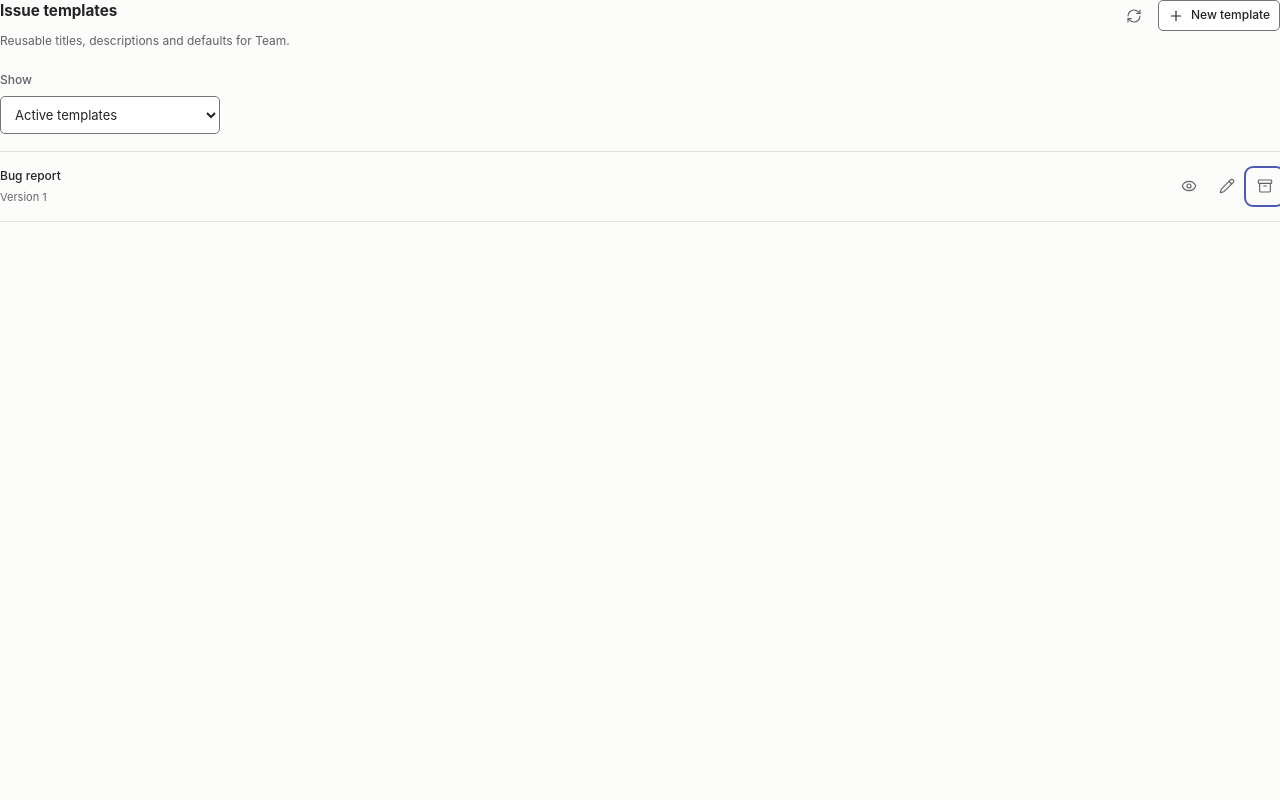
Test: moves focus to a stable heading when archive removes the selected row
Click the button named "Archive Bug report": coordinates (1264, 186) [1249, 171, 1279, 202]
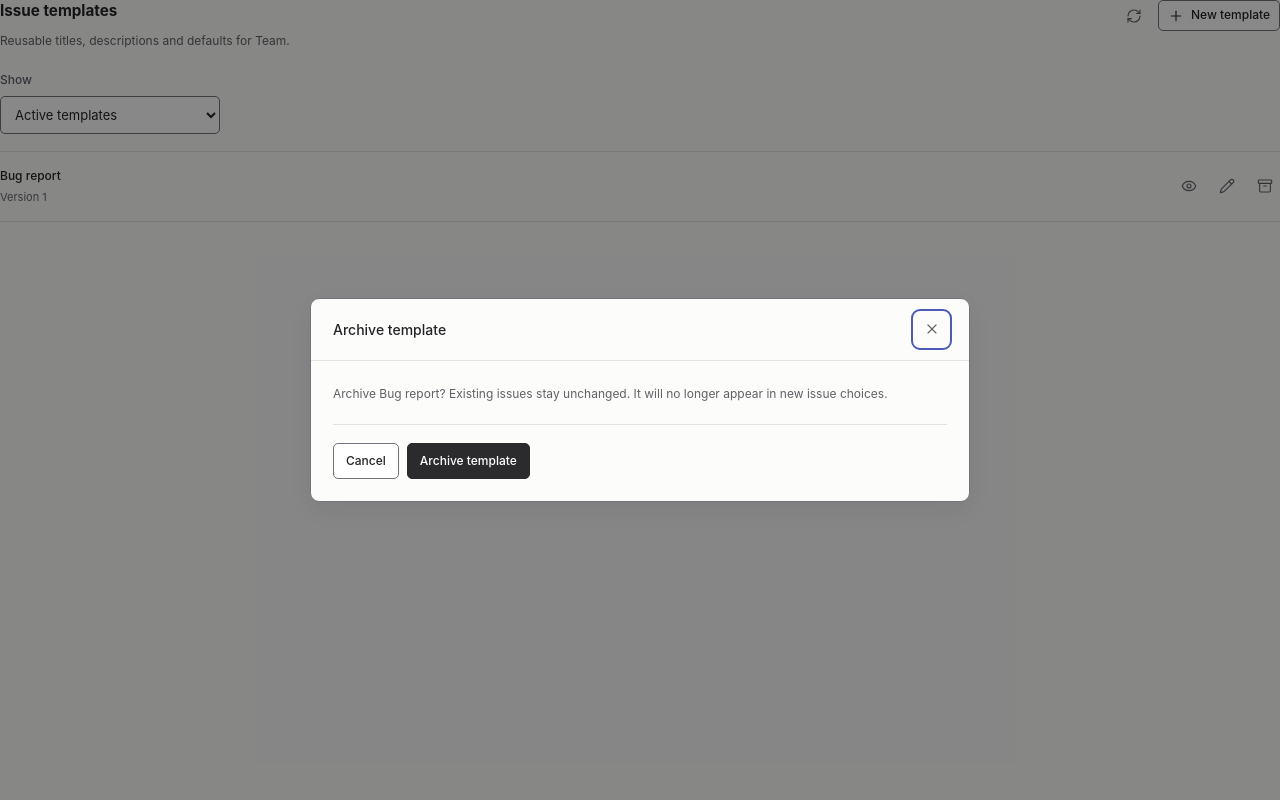
Submit the form, box [311, 361, 969, 501]
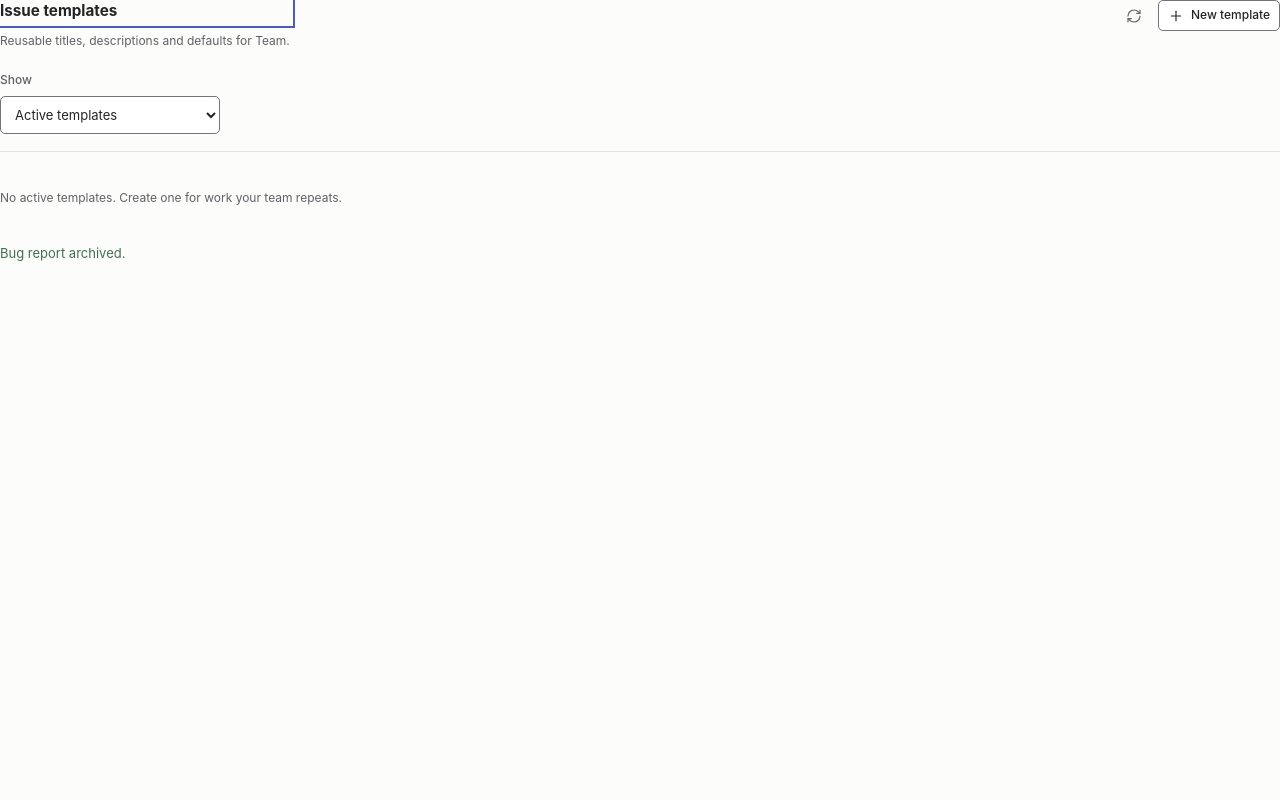
Result: the dialog is gone
